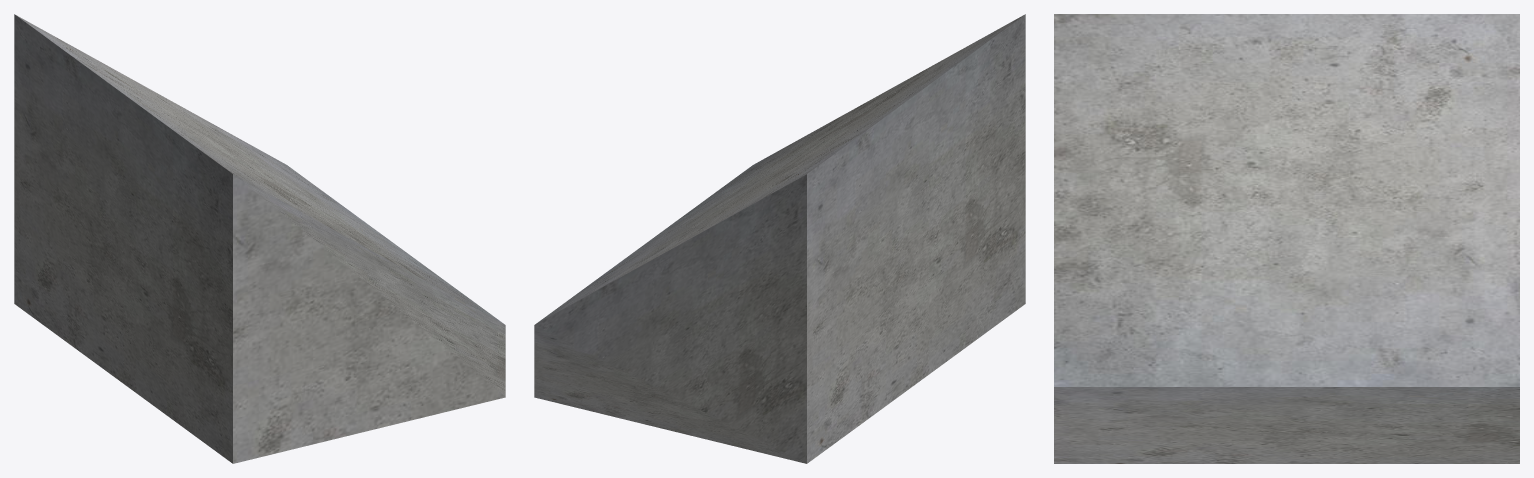
3 renders of one model, left to right at view 1: azimuth 30°, elevation 25°; view 2: azimuth 150°, elevation 25°; view 3: azimuth 270°, elevation 25°, orthographic. The views are drawn at different scales.
Parts seen in each view (by area): view 1: Cube; view 2: Cube; view 3: Cube.
Part boxes in pixels (x1,y1,x2,y2): Cube: (14, 14, 505, 463); Cube: (534, 14, 1025, 463); Cube: (1054, 14, 1519, 463).
Size of the model in its own units: 0.4304 by 0.4371 by 0.5982.
Materials: 1 (1 with a texture image).
